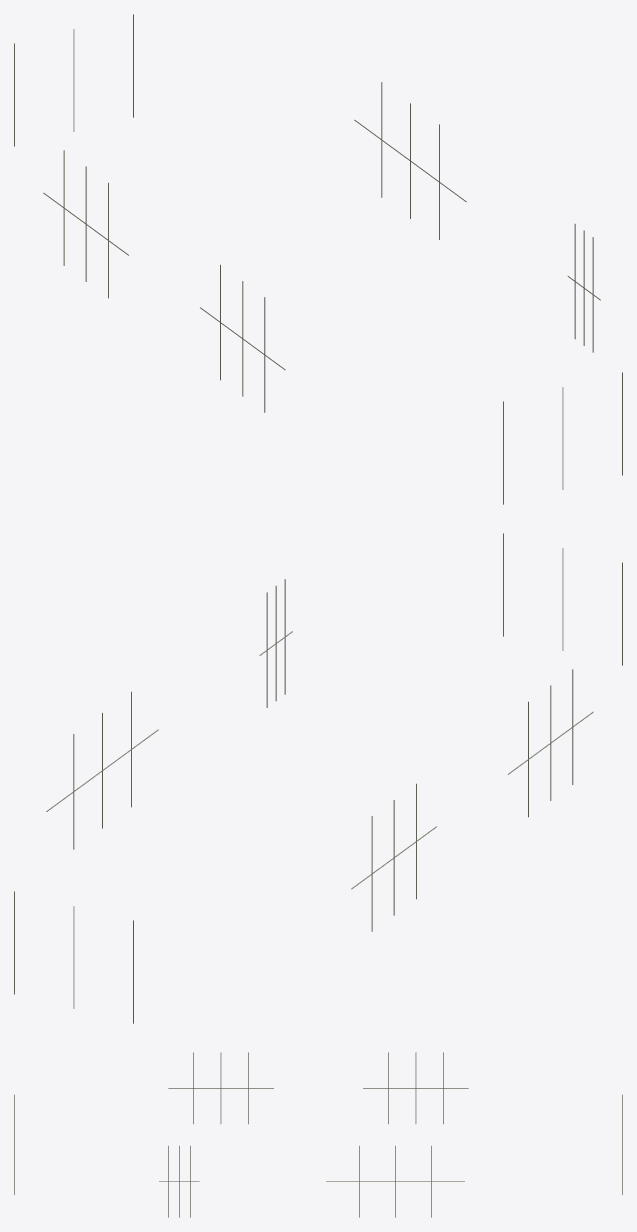
File: vintage-windup-camper--screen-wire.glb
The picture shows the model from 3 angles, top to bottom: view 1: azimuth 30°, elevation 25°; view 2: azimuth 150°, elevation 25°; view 3: azimuth 270°, elevation 25°; orthographic projection. The views are drawn at different scales.
Parts seen in each view (by area): view 1: vintage-windup-camper; view 2: vintage-windup-camper; view 3: vintage-windup-camper.
Part boxes in pixels (x1,y1,x2,y2): vintage-windup-camper: (14,14,622,504); vintage-windup-camper: (14,533,622,1023); vintage-windup-camper: (14,1052,622,1217).
Size of the model in its own units: 2.08 by 0.8 by 5.69.
